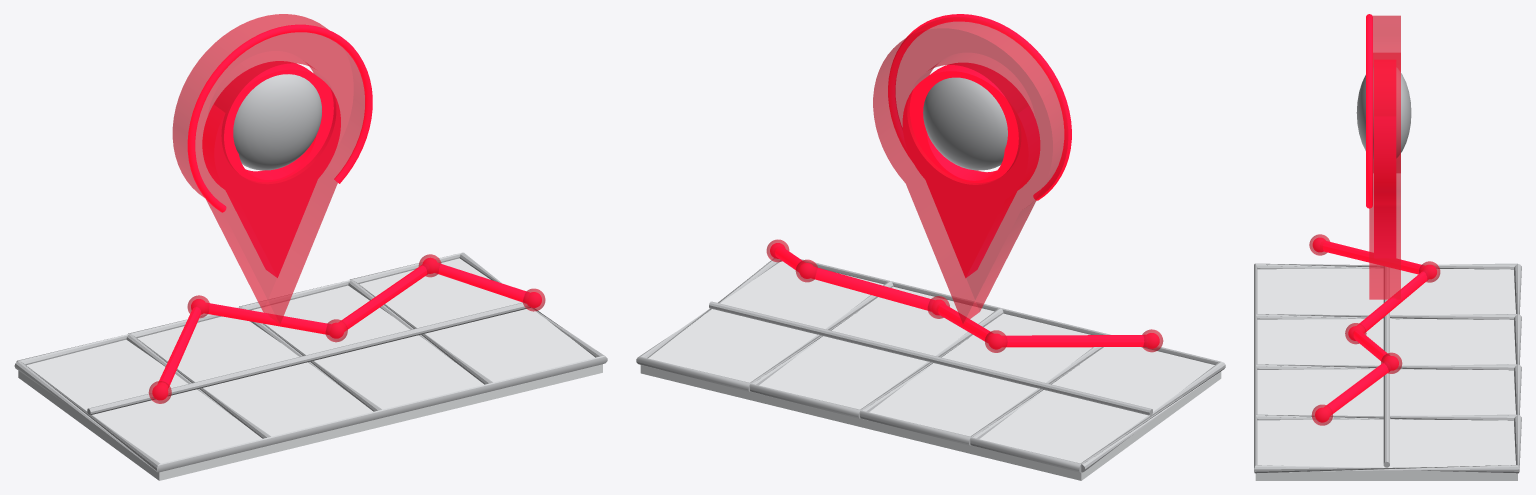
Rendered from 18-map.glb.
3 views of the same model, side by side, from view 1: azimuth 30°, elevation 25°; view 2: azimuth 150°, elevation 25°; view 3: azimuth 270°, elevation 25° (orthographic). The views are drawn at different scales.
Visible parts, largest first — view 1: BC clear optical glass, BC ruby optical glass, BC internal ruby light, BC satin iron; view 2: BC clear optical glass, BC ruby optical glass, BC internal ruby light, BC satin iron; view 3: BC clear optical glass, BC satin iron, BC ruby optical glass, BC internal ruby light.
Boxes of the visible parts, <box> form: BC clear optical glass: <box>18,258,602,480</box>; BC ruby optical glass: <box>148,14,545,403</box>; BC internal ruby light: <box>152,24,541,400</box>; BC satin iron: <box>14,74,607,472</box>; BC clear optical glass: <box>640,261,1221,480</box>; BC ruby optical glass: <box>766,17,1163,352</box>; BC internal ruby light: <box>770,14,1159,349</box>; BC satin iron: <box>636,77,1225,472</box>; BC clear optical glass: <box>1255,268,1517,480</box>; BC satin iron: <box>1254,66,1521,473</box>; BC ruby optical glass: <box>1309,15,1440,425</box>; BC internal ruby light: <box>1312,14,1436,422</box>.
Bounding box in the file's own units: 2.03 × 1.57 × 1.12.
